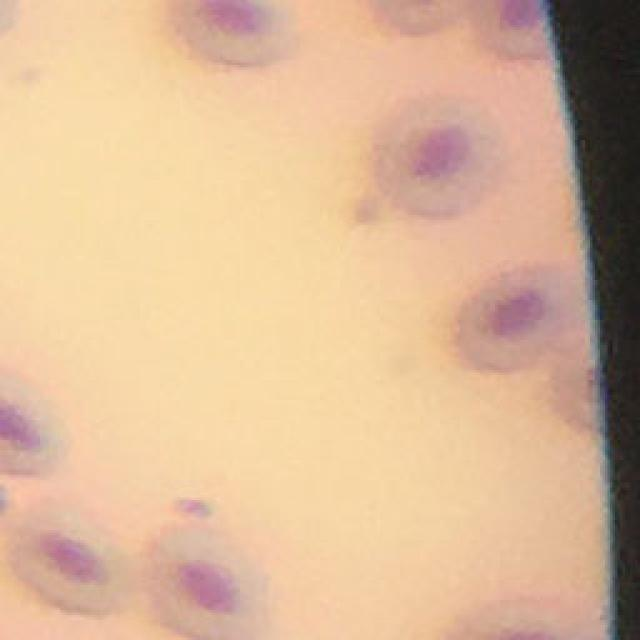RBC: (370, 90, 510, 220), (142, 520, 273, 640), (451, 262, 586, 375), (6, 521, 132, 619), (163, 0, 286, 70), (0, 368, 76, 480), (446, 598, 606, 640), (464, 0, 550, 68)
